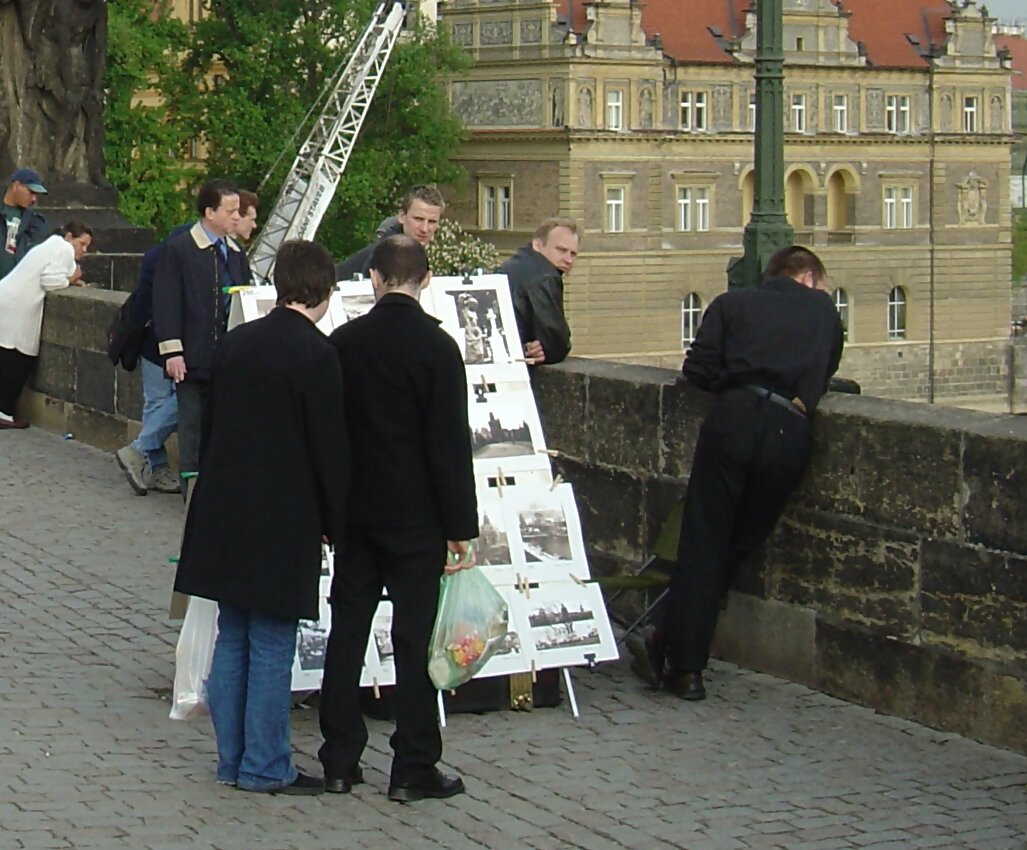person: (625, 237, 848, 702), (323, 235, 480, 800), (180, 235, 335, 794), (153, 180, 245, 494), (1, 220, 89, 427), (494, 215, 583, 370), (340, 171, 446, 289), (1, 167, 59, 271)
